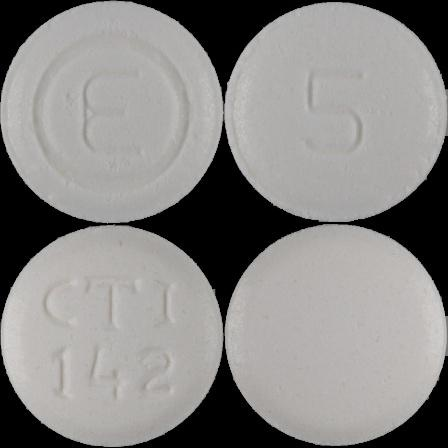61919-545: (0, 0, 224, 224)
